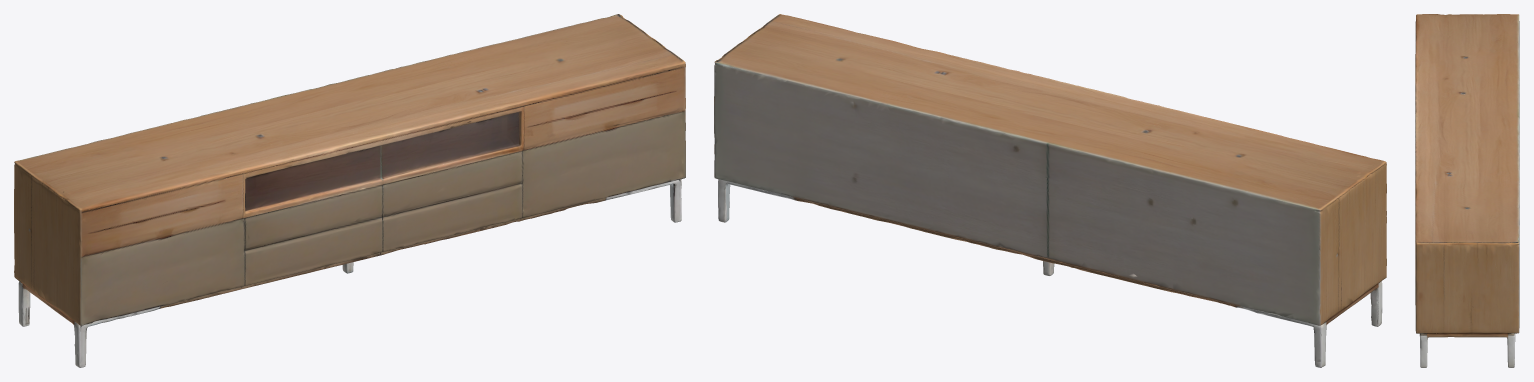
File: Sideboard.glb
3 views of the same model, side by side, from view 1: azimuth 30°, elevation 25°; view 2: azimuth 150°, elevation 25°; view 3: azimuth 270°, elevation 25° (orthographic). The views are drawn at different scales.
Bounding box in the file's own units: 1.9 × 0.4857 × 0.3648.
Materials: 1 (1 with a texture image).
